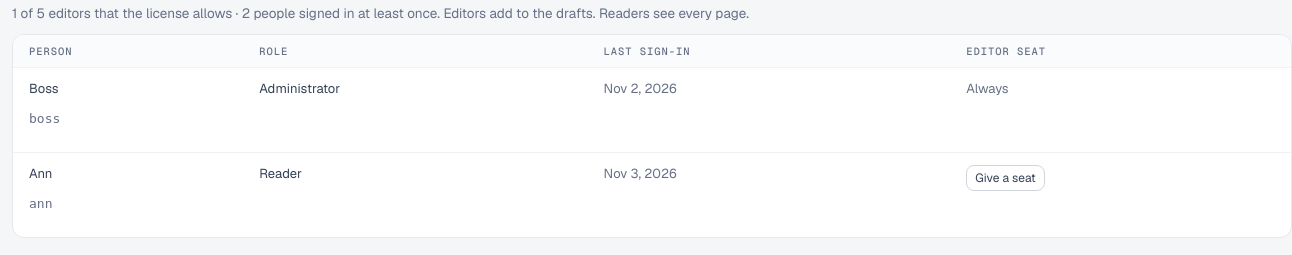
Test: PeopleView › counts the editors and gives a seat
Expected: the text "1 of 5 editors that the license allows · 2 people" is shown, [12,4,749,22]
Expected: the text "Always" is shown, [966,80,1008,97]
Step 1. Click the button "Give a seat" → (1005,178), box [966,165,1045,191]
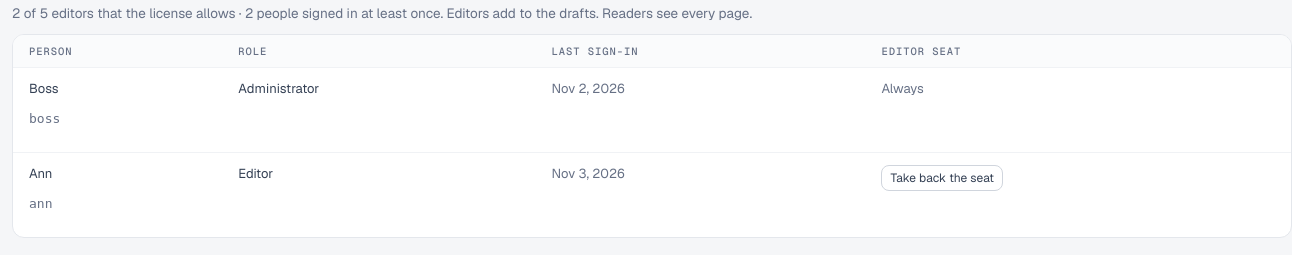
Result: the text "2 of 5 editors" is shown at [12,4,752,22]
Result: the button "Take back the seat" is shown at [881,165,1003,191]
